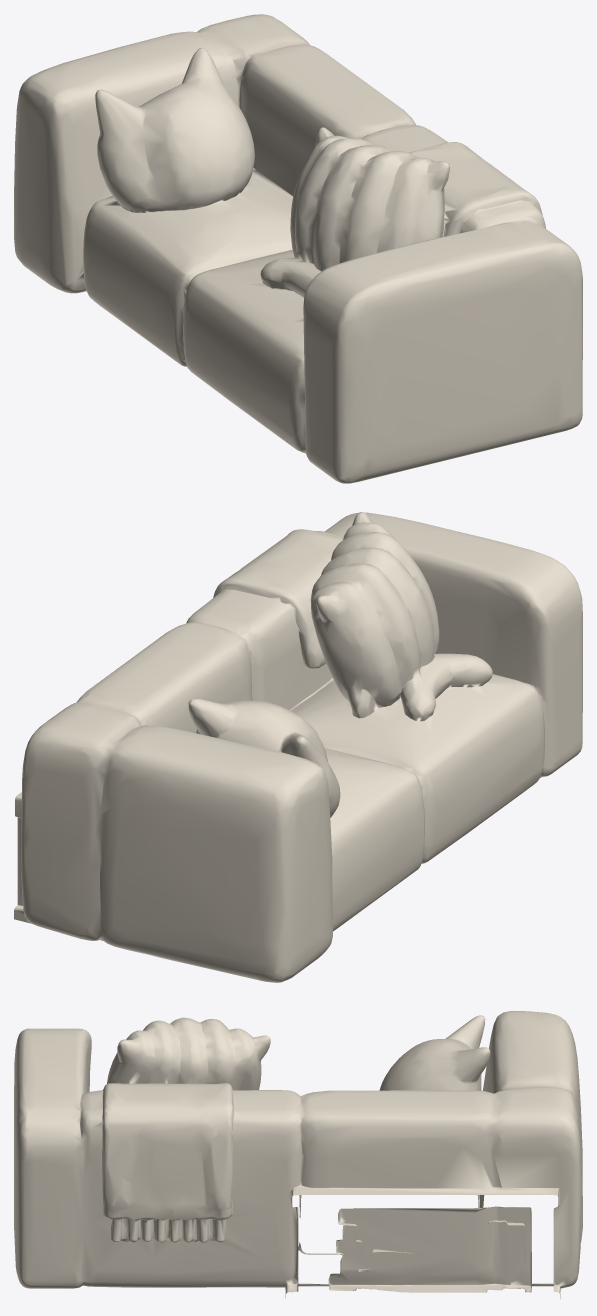
Rendered from living_sofa.glb.
3 renders of one model, top to bottom at view 1: azimuth 30°, elevation 25°; view 2: azimuth 150°, elevation 25°; view 3: azimuth 270°, elevation 25°, orthographic. The views are drawn at different scales.
Bounding box in the file's own units: 0.3217 × 0.2737 × 0.6389.
